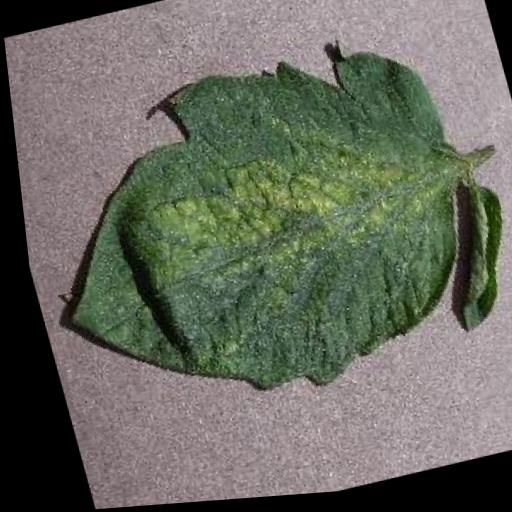Spider Mites: (4, 20, 512, 441)
